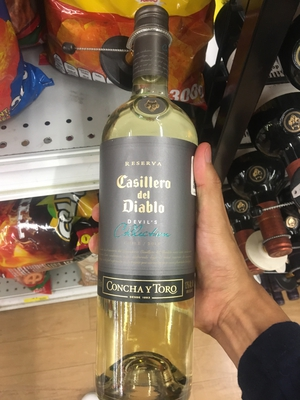casillero del diablo devils collection verde: (82, 8, 210, 399)
